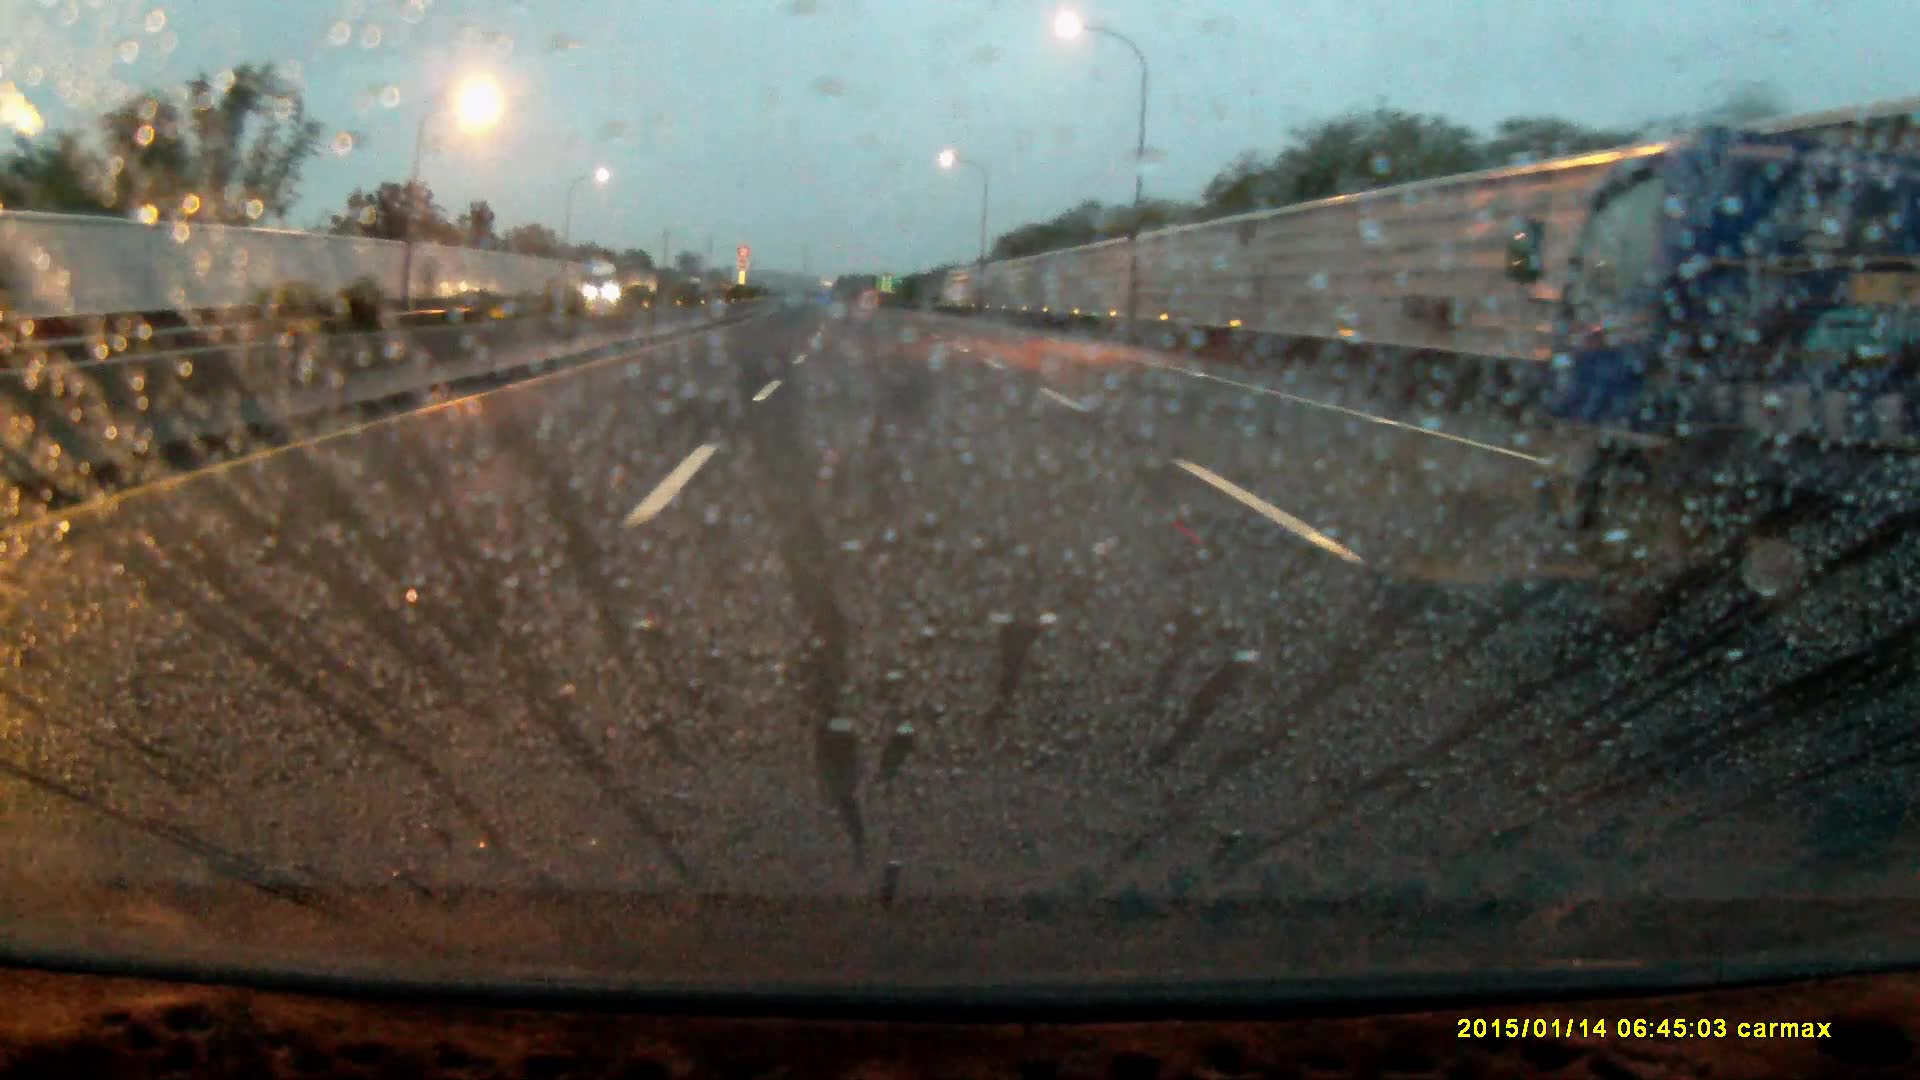vehicle: (1543, 145, 1920, 607), (585, 266, 630, 309)
